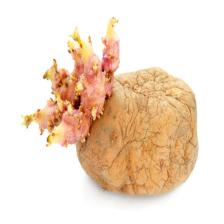Sprouted potato: (19, 18, 202, 202)
